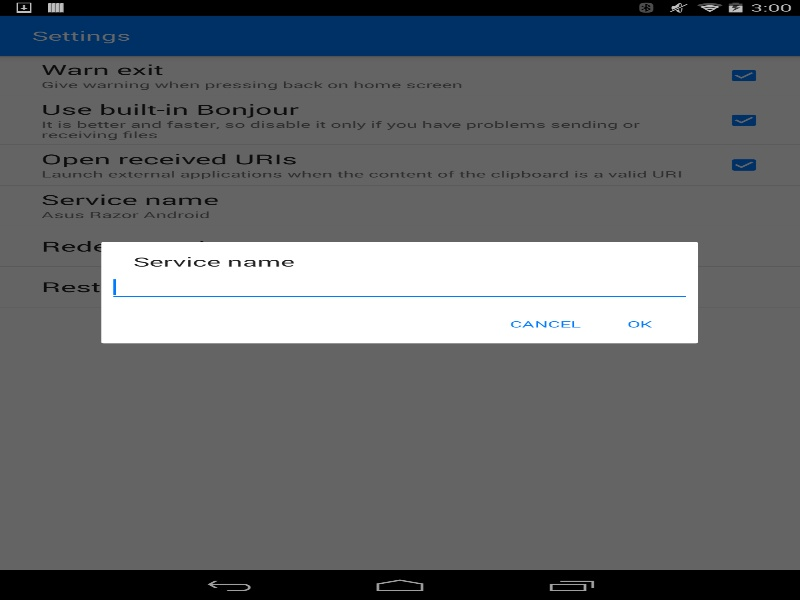Button: (494, 307, 596, 340), (596, 307, 682, 340)
Input: (108, 273, 691, 301)
